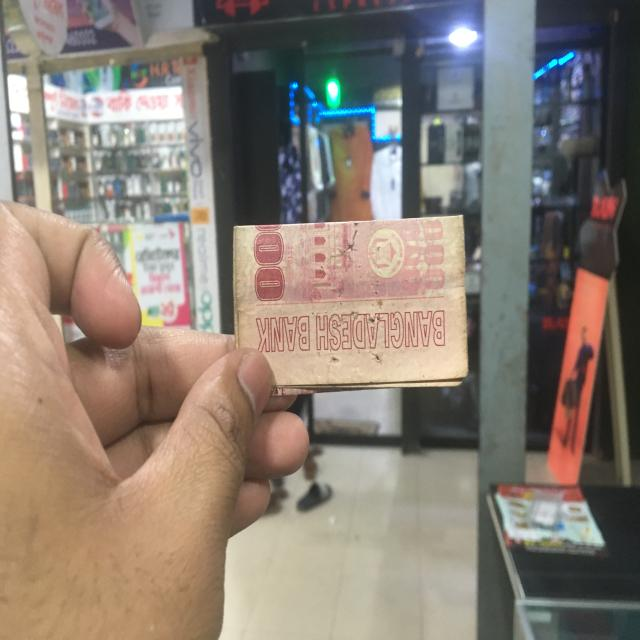Taka: (227, 221, 464, 395)
